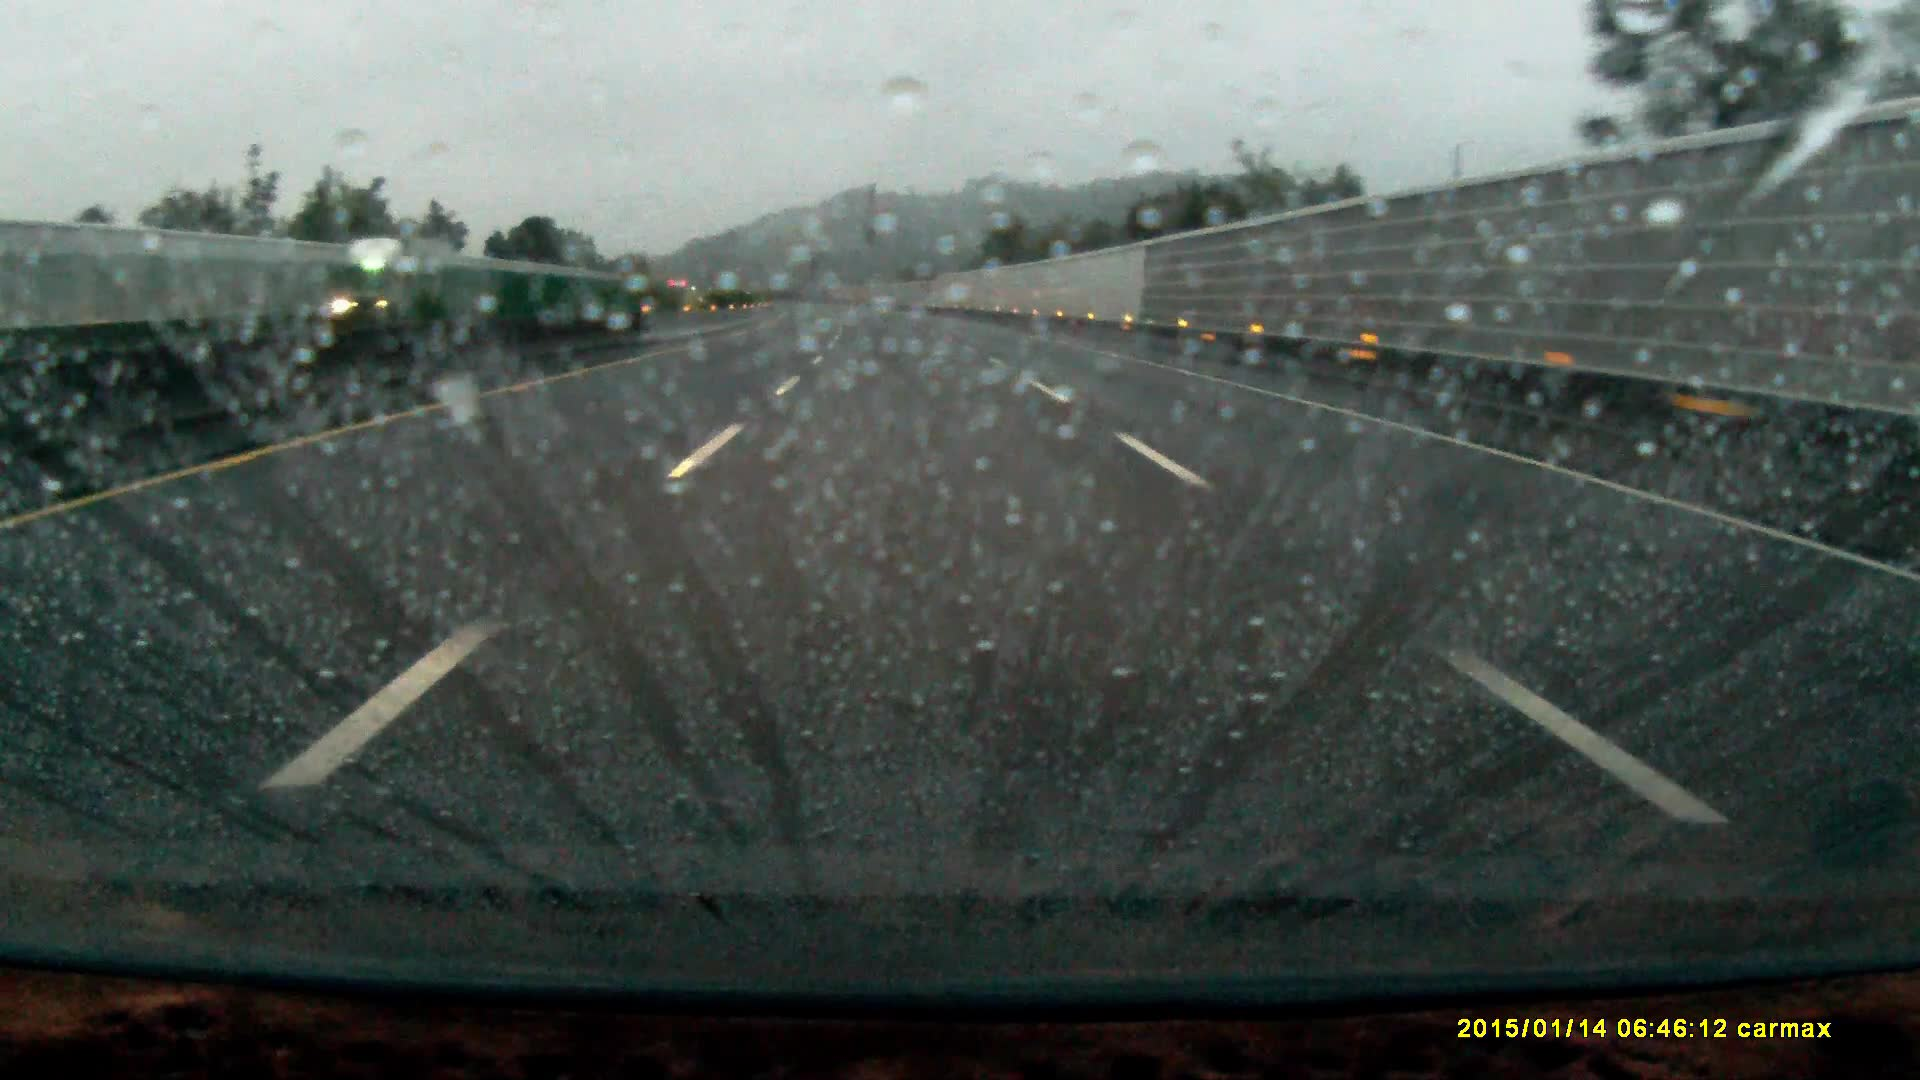vehicle: (342, 232, 450, 324)
